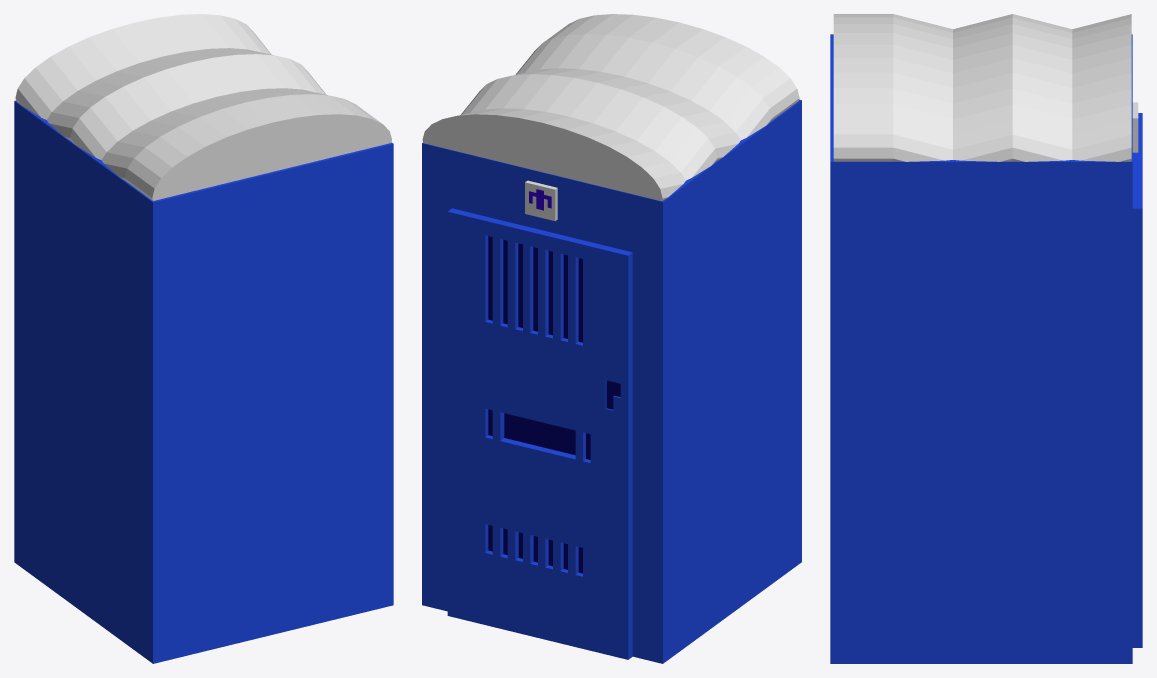
The model's file is Banheiro Químico.fbx.
3 renders of one model, left to right at view 1: azimuth 30°, elevation 25°; view 2: azimuth 150°, elevation 25°; view 3: azimuth 270°, elevation 25°, orthographic. The views are drawn at different scales.
Visible parts, largest first — view 1: Cube.001; view 2: Cube.001; view 3: Cube.001.
Boxes of the visible parts, <box> form: Cube.001: <box>14,14,393,663</box>; Cube.001: <box>422,14,801,663</box>; Cube.001: <box>830,14,1142,663</box>.
Size of the model in its own units: 544 by 1103 by 561.
